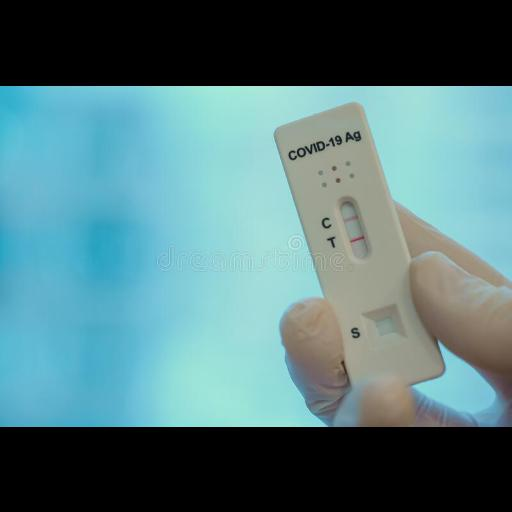Pos: (273, 100, 447, 396)
